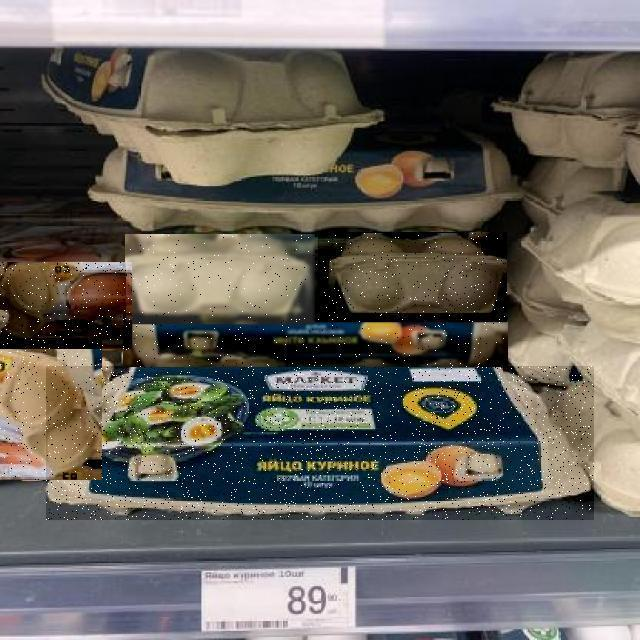Eggs: (46, 366, 594, 520), (123, 313, 508, 367), (126, 234, 318, 324), (316, 232, 507, 322), (1, 338, 103, 480), (0, 262, 132, 349)
